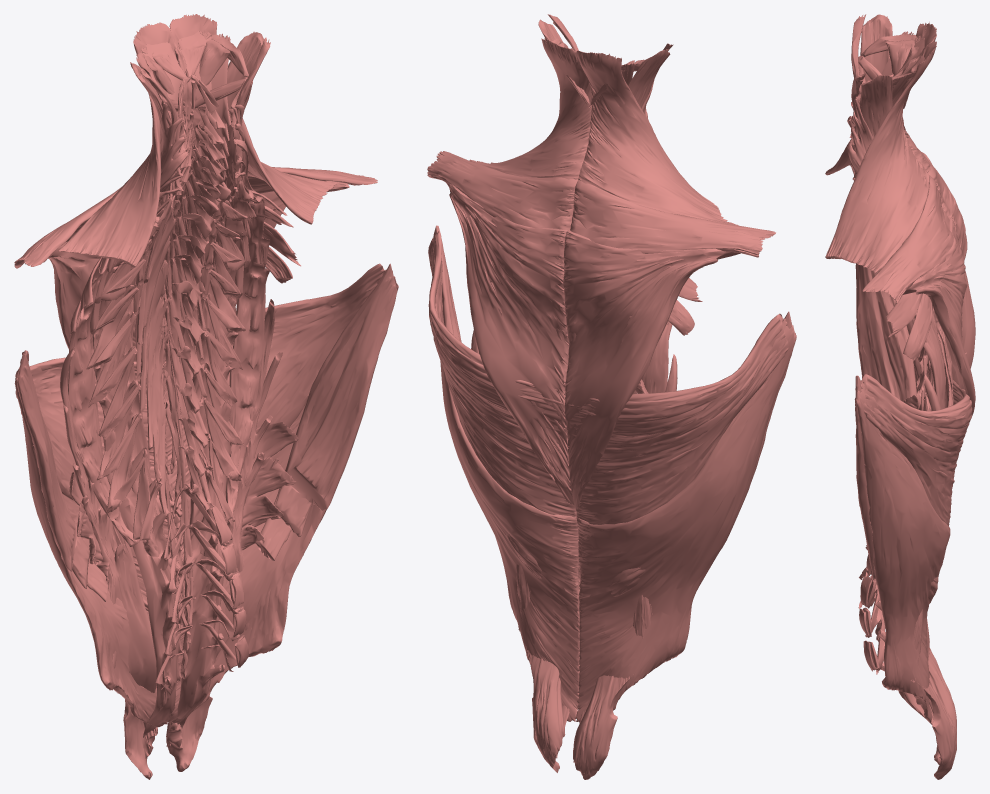
The model's file is muscles-dos.hi.glb.
The picture shows the model from 3 angles, left to right: view 1: azimuth 30°, elevation 25°; view 2: azimuth 150°, elevation 25°; view 3: azimuth 270°, elevation 25°; orthographic projection. The views are drawn at different scales.
Visible parts, largest first — view 1: ZA-grand-dorsal-g, ZA-grand-dorsal-d, FJ1535M, FJ1535, FJ1527, FJ1521, FJ1528M, FJ1525M, FJ1540, FJ1463, FJ1527M, FJ1528 (+32 smaller); view 2: ZA-grand-dorsal-d, ZA-grand-dorsal-g, FJ1520M, FJ1520, FJ1521, FJ1554, FJ1554M, FJ1521M, FJ1527, FJ1527M, FJ1528, FJ1545 (+1 smaller); view 3: ZA-grand-dorsal-g, FJ1521M, ZA-grand-dorsal-d, FJ1554M, FJ1520M, FJ1527M, FJ1542M, FJ1545M, FJ1520, FJ1545, FJ1521, FJ1528M (+15 smaller).
Boxes of the visible parts, x1,y1,x2,y2 form: ZA-grand-dorsal-g: (163,263,398,723); ZA-grand-dorsal-d: (14,350,169,727); FJ1535M: (168,186,253,746); FJ1535: (93,205,182,737); FJ1527: (60,347,157,779); FJ1521: (58,22,187,267); FJ1528M: (225,196,269,521); FJ1525M: (172,179,221,510); FJ1540: (135,200,176,514); FJ1463: (86,197,170,539); FJ1527M: (166,299,282,771); FJ1528: (67,223,158,546); ZA-grand-dorsal-d: (566,311,796,722); ZA-grand-dorsal-g: (428,225,579,721); FJ1520M: (446,183,574,504); FJ1520: (563,229,740,511); FJ1521: (576,50,738,225); FJ1554: (566,179,775,261); FJ1554M: (427,151,577,269); FJ1521M: (469,38,591,179); FJ1527: (573,354,677,779); FJ1527M: (471,330,565,772); FJ1528: (642,321,672,393); FJ1545: (628,50,670,107); ZA-grand-dorsal-g: (854,374,972,722); FJ1521M: (825,41,936,272); ZA-grand-dorsal-d: (855,263,966,713); FJ1554M: (862,175,953,304); FJ1520M: (890,217,975,422); FJ1527M: (910,374,956,779); FJ1542M: (886,292,932,360); FJ1545M: (859,75,892,137); FJ1520: (922,152,975,368); FJ1545: (860,14,892,81); FJ1521: (825,22,936,175); FJ1528M: (914,310,945,408).
Size of the model in its own units: 0.3574 by 0.6762 by 0.1252.
